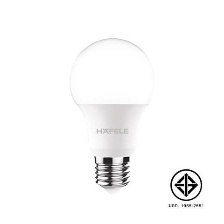light_bulb: (64, 33, 159, 197)
